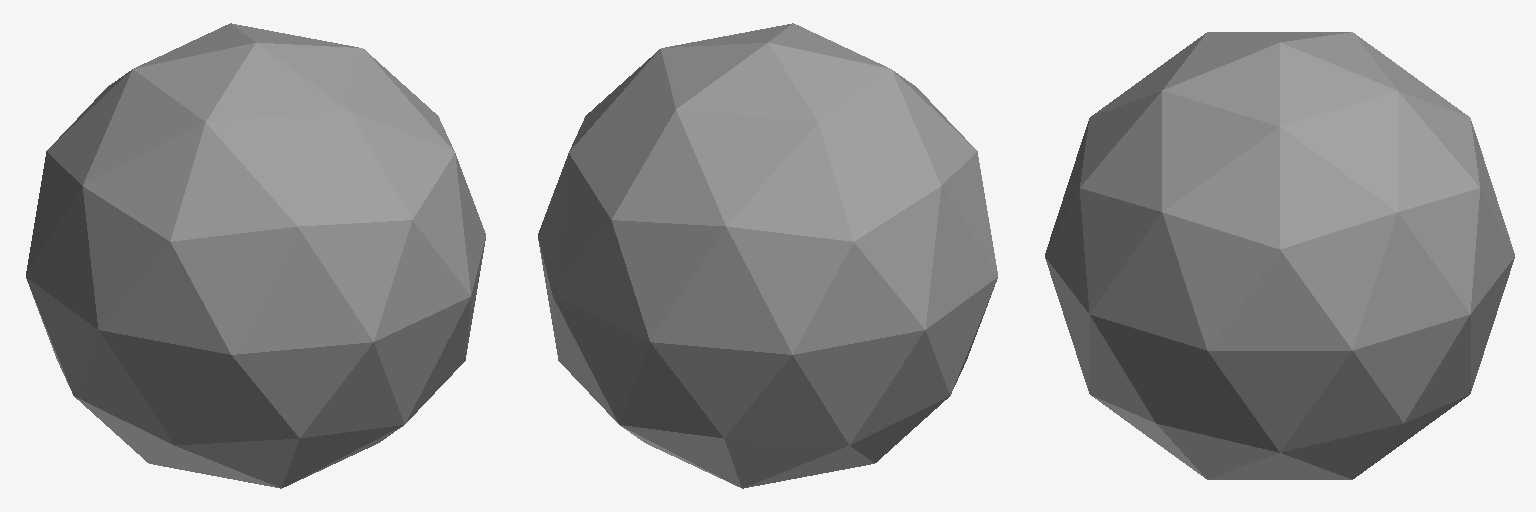
File: Planet.obj
3 renders of one model, left to right at view 1: azimuth 30°, elevation 25°; view 2: azimuth 150°, elevation 25°; view 3: azimuth 270°, elevation 25°, orthographic.
Visible parts, largest first — view 1: GeoSphere001; view 2: GeoSphere001; view 3: GeoSphere001.
Boxes of the visible parts, x1,y1,x2,y2 form: GeoSphere001: [26, 23, 485, 488]; GeoSphere001: [538, 23, 997, 488]; GeoSphere001: [1045, 32, 1514, 479].
Bounding box in the file's own units: 0.7608 × 0.8 × 0.8.